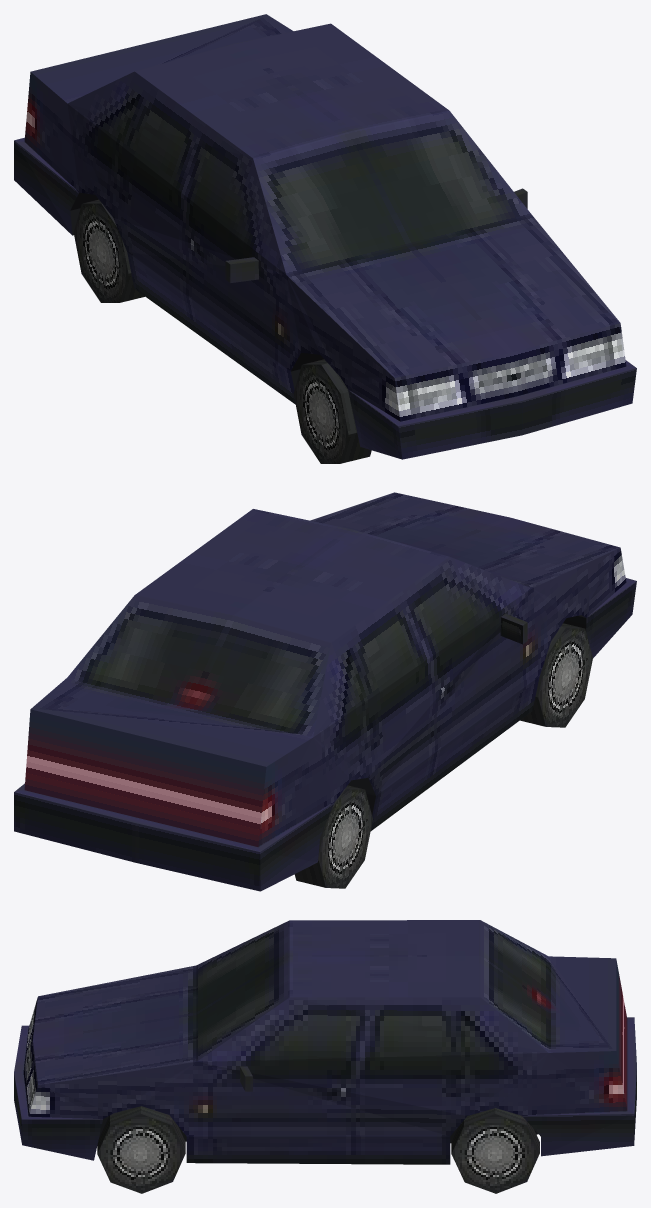
Rendered from car2.lod.glb.
3 renders of one model, top to bottom at view 1: azimuth 30°, elevation 25°; view 2: azimuth 150°, elevation 25°; view 3: azimuth 270°, elevation 25°, orthographic. The views are drawn at different scales.
Visible parts, largest first — view 1: Car2; view 2: Car2; view 3: Car2.
Part boxes in pixels (x1,y1,x2,y2): Car2: (14,14,636,463); Car2: (14,492,636,891); Car2: (14,920,636,1193).
Bounding box in the file's own units: 2.9 × 2.2 × 6.53.
1 material, 1 textured.
